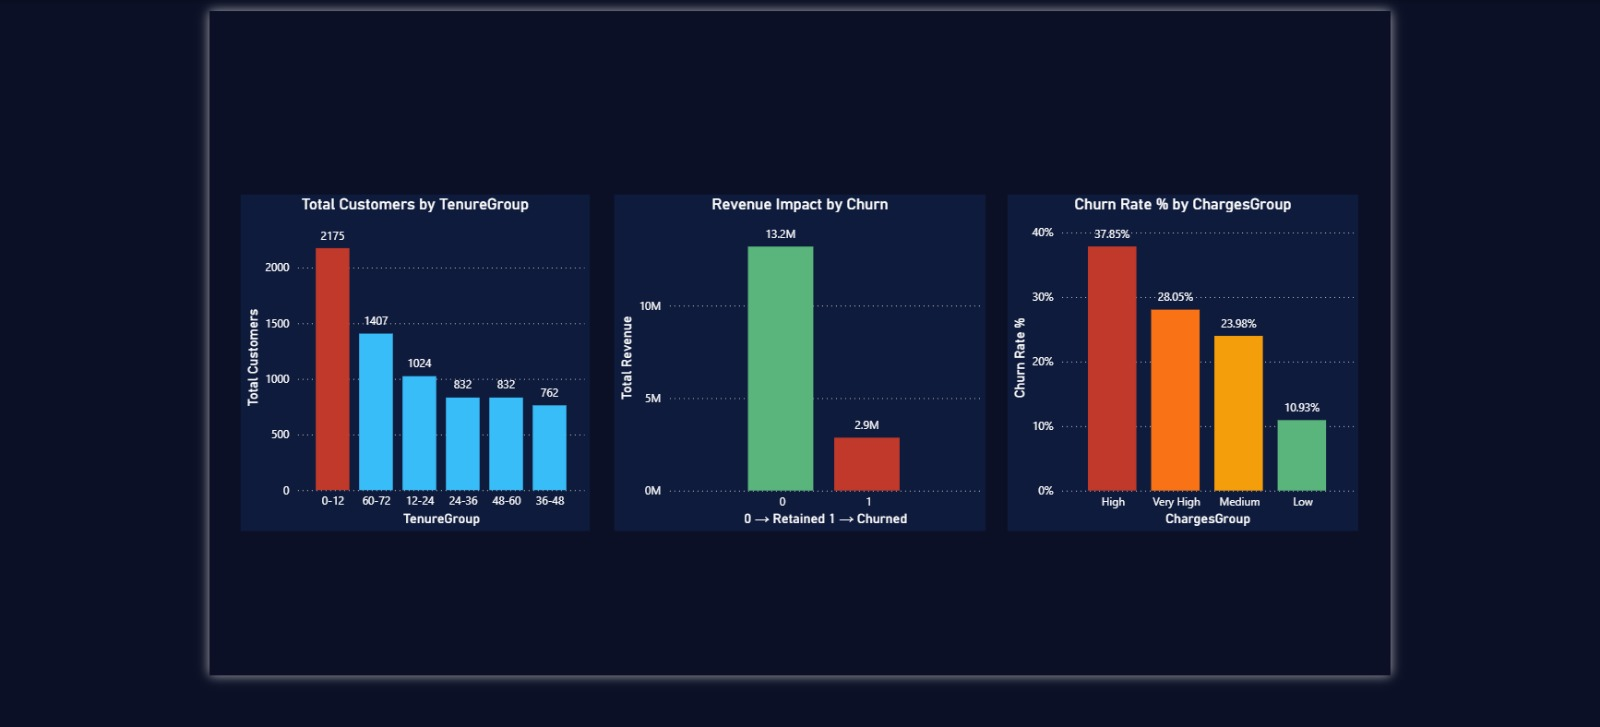

This screenshot's page, from the dashboard's own definition file:
{"tool":"powerbi","page":{"name":"Retention Insights","canvas":[1280,720],"ordinal":2},"visuals":[{"type":"clusteredColumnChart","fields":{"Y":["Sheet1.Total Customers"],"Category":["Sheet1.TenureGroup"]},"box":[33.6,199,378.2,364.5],"z":0},{"type":"clusteredColumnChart","title":"Revenue Impact by Churn","fields":{"Category":["Sheet1.Churn"],"Y":["Sheet1.Total Revenue"]},"box":[438.8,198.8,402.5,365],"z":1000},{"type":"clusteredColumnChart","fields":{"Category":["Sheet1.ChargesGroup"],"Y":["Sheet1.Churn Rate %"]},"box":[865,198.8,380,365],"z":2000}]}

Visuals, with their boxes on the page's 1280x720 design canvas (x1, y1, x2, y2). These are canvas units, not pixel positions in the 1600x727 screenshot, which may show the page scaled, cropped or inside an application window:
clusteredColumnChart - Sheet1.Total Customers x Sheet1.TenureGroup: rect(34, 199, 412, 564)
"Revenue Impact by Churn" clusteredColumnChart: rect(439, 199, 841, 564)
clusteredColumnChart - Sheet1.ChargesGroup x Sheet1.Churn Rate %: rect(865, 199, 1245, 564)
